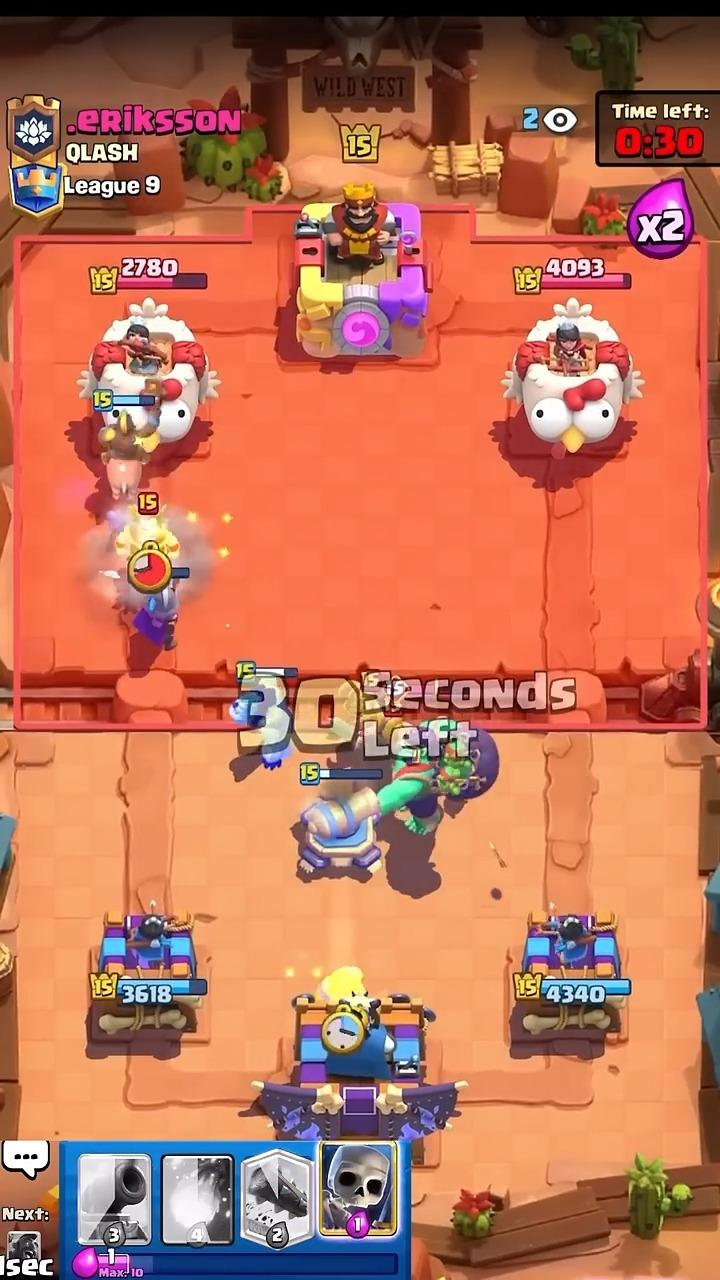cannon: (301, 790, 380, 871)
electro wizard: (116, 505, 179, 560)
elite barbarians: (351, 676, 401, 740)
goblin giant: (377, 720, 498, 834)
hog rider: (99, 410, 155, 502)
musketeer: (133, 582, 178, 649), (320, 966, 366, 1001)
